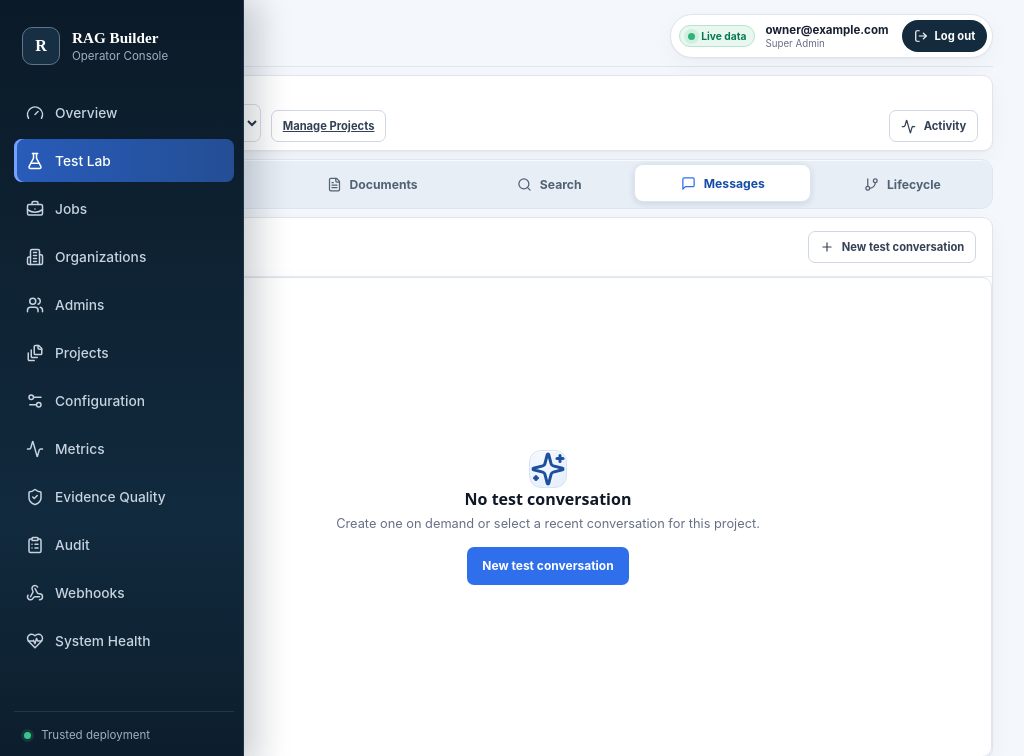
Test case: renders an explicit valid refusal when retrieval evidence is insufficient
Click the button "New test conversation" below "No test conversation" at (548, 566), box [467, 546, 629, 584]
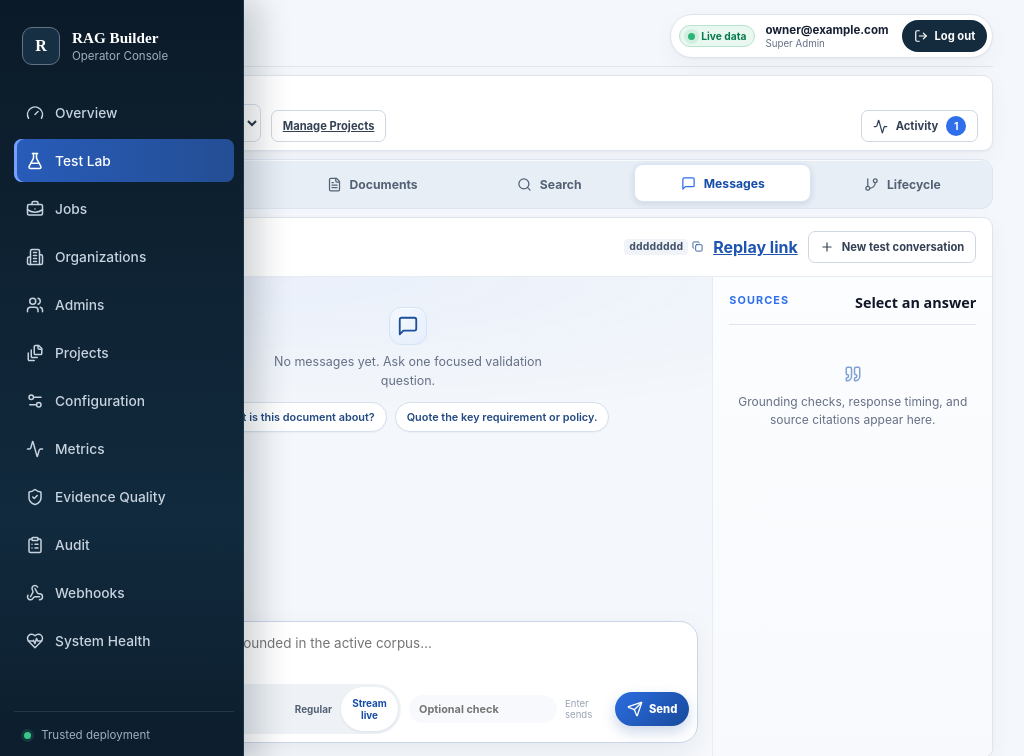
Type "What is not in the corpus?" into the text box named "Message" at (408, 650), box [119, 622, 697, 678]
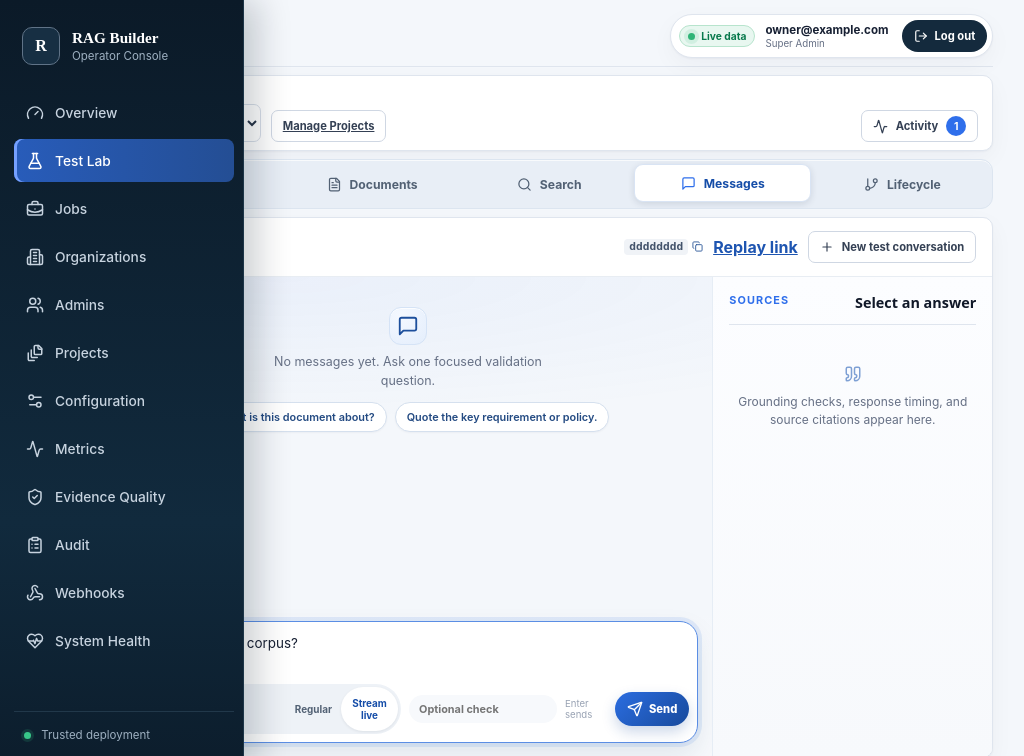
Click the button "Regular" at (313, 709), box [286, 687, 341, 731]
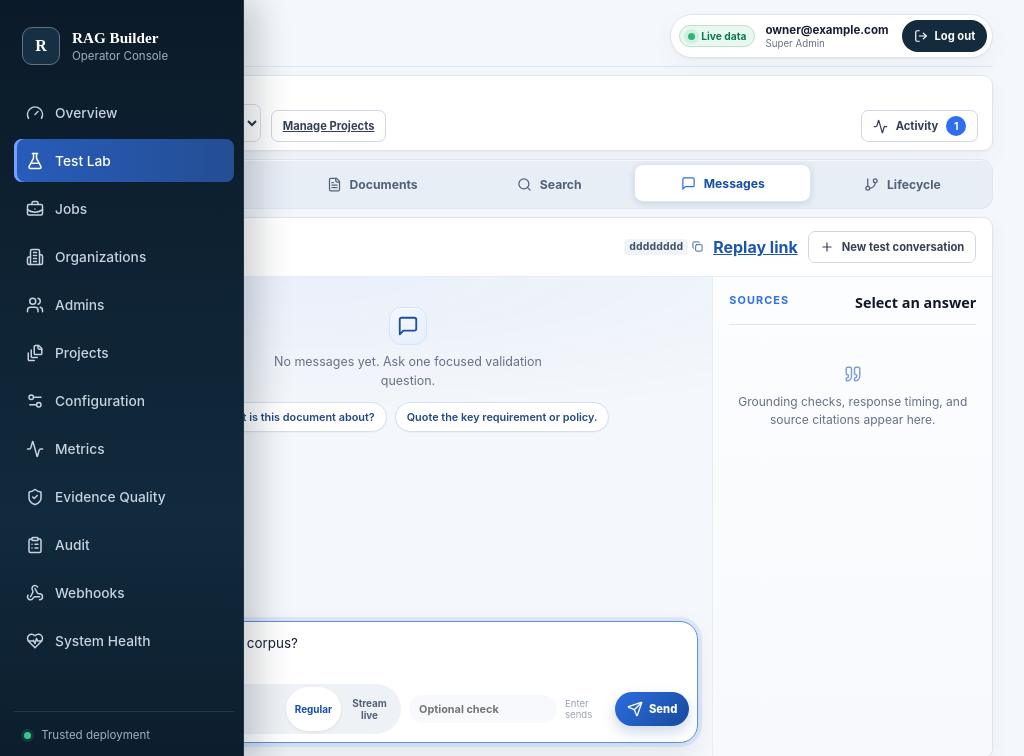
Click the button with aria-label "Send message" at (652, 709), box [615, 692, 689, 726]
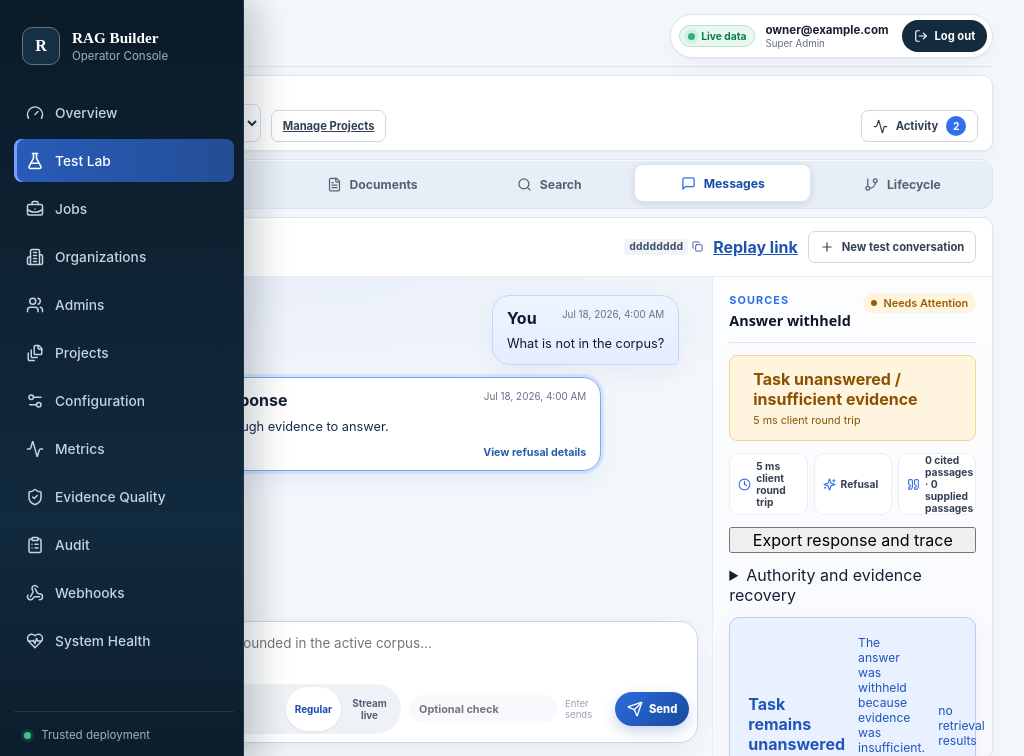
Expected: the text "Task unanswered / insufficient evidence" is shown, [753, 369, 918, 409]
Expected: the text "no retrieval results" is shown, [938, 702, 985, 748]
